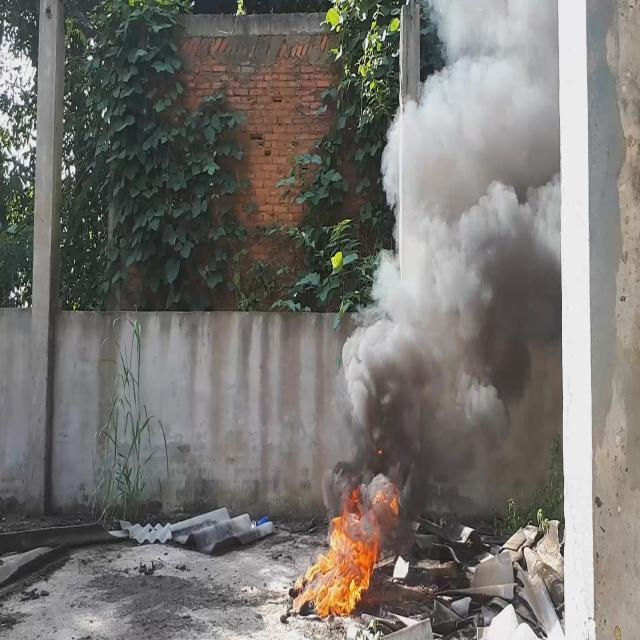Fire: (296, 516, 384, 614)
Smoke: (322, 0, 560, 520)
